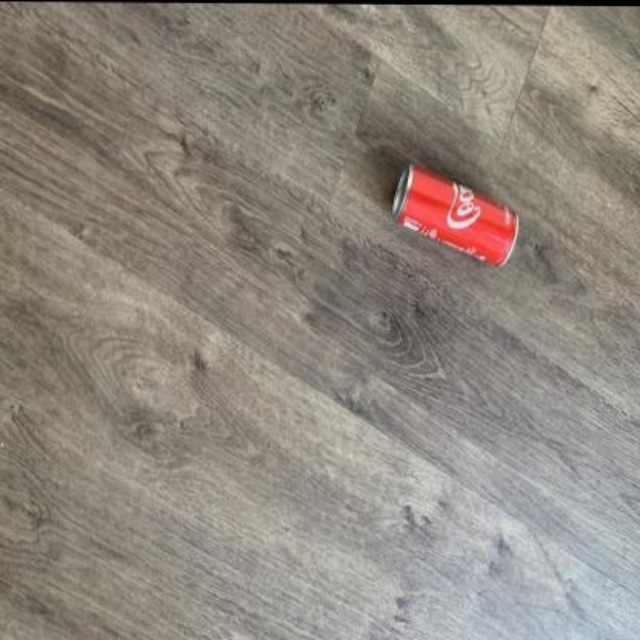trash: (392, 165, 517, 265)
